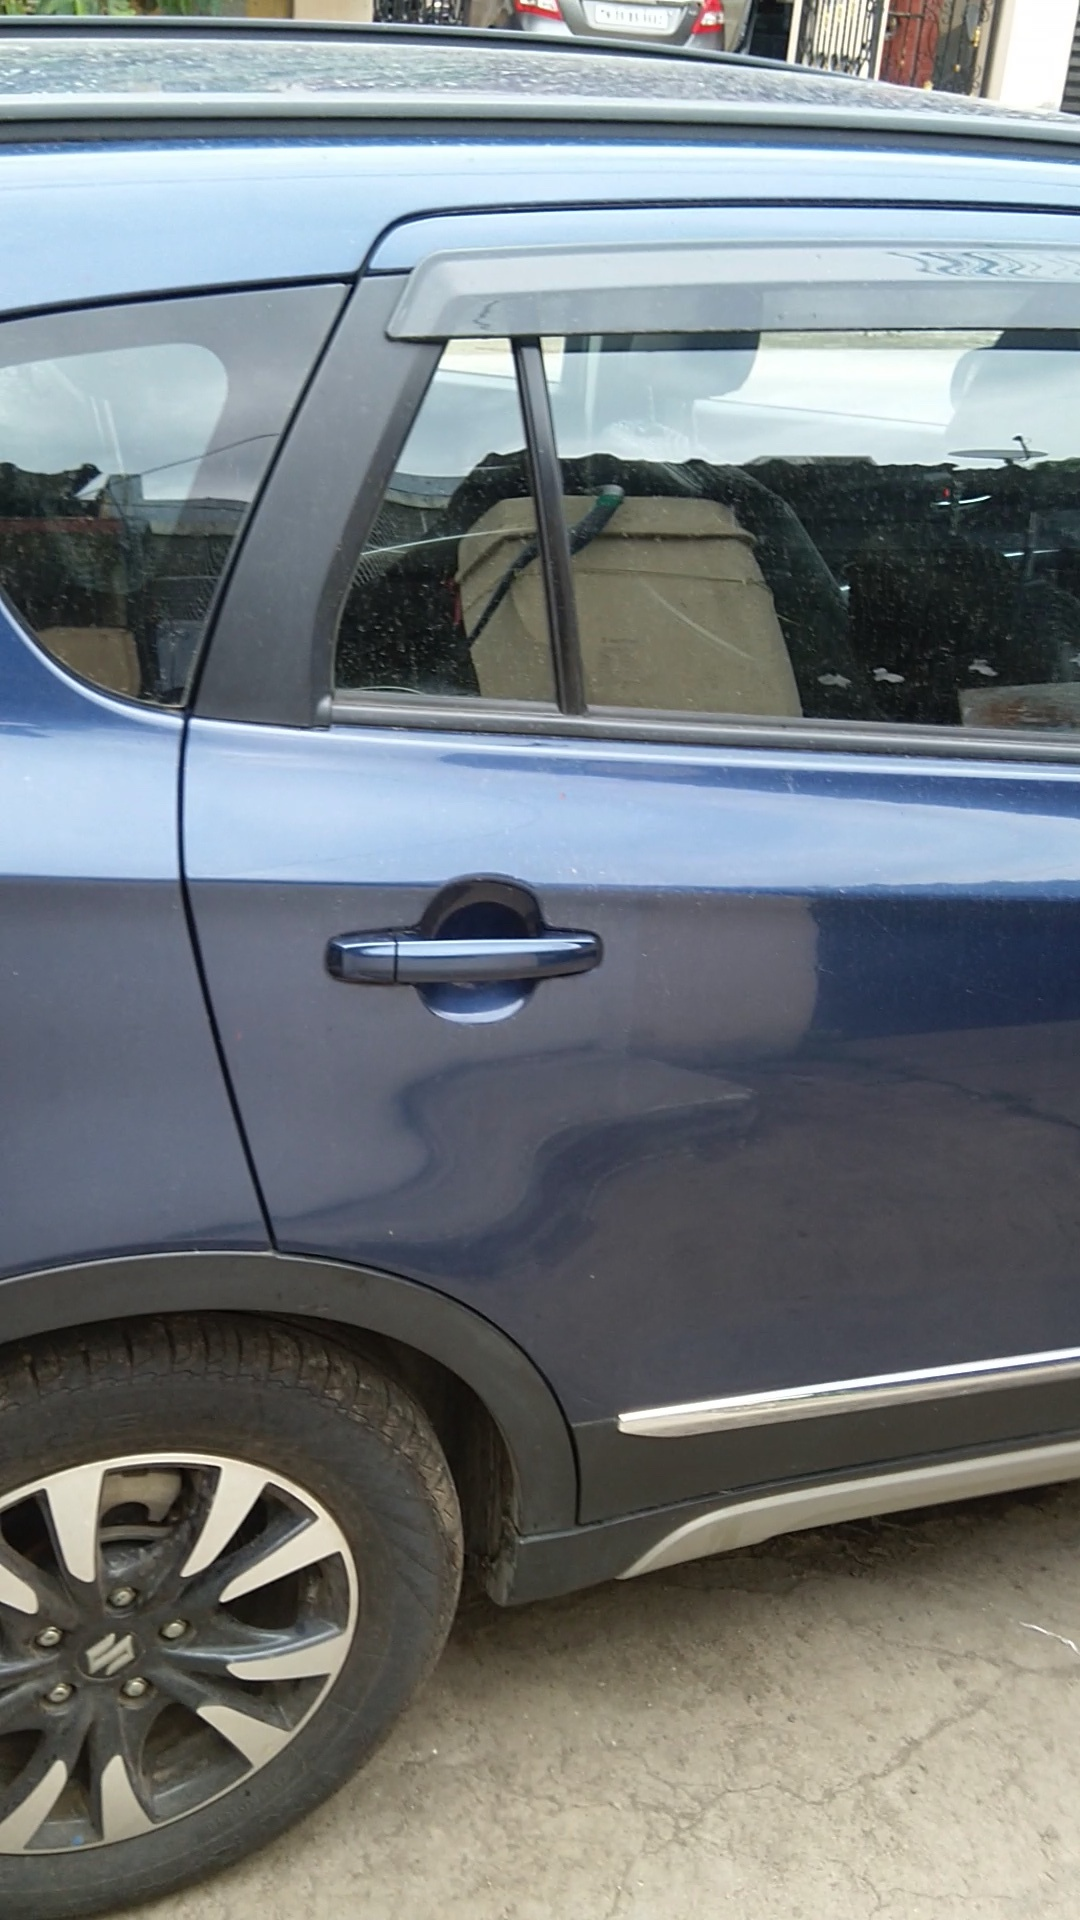alloy_wheel: (1, 1357, 448, 1920)
